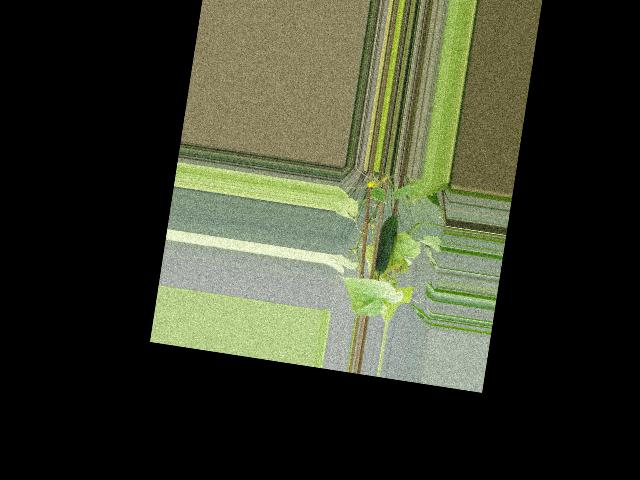cucumber: (373, 213, 399, 275)
